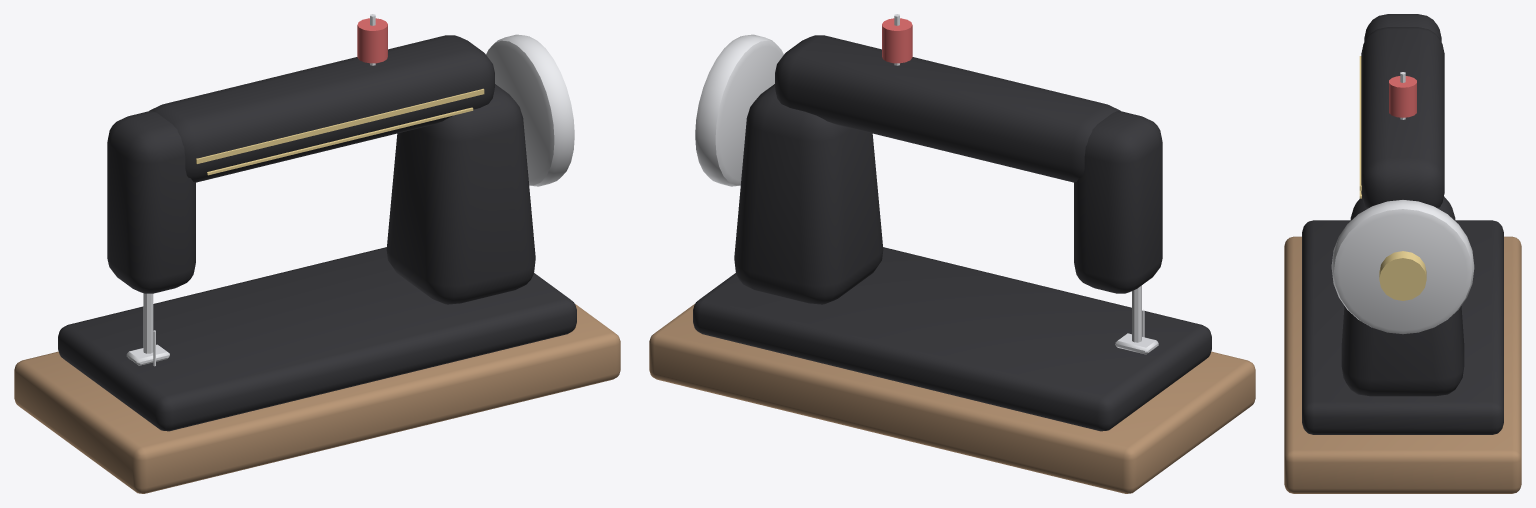
The model's file is sewing_machine.glb.
3 views of the same model, side by side, from view 1: azimuth 30°, elevation 25°; view 2: azimuth 150°, elevation 25°; view 3: azimuth 270°, elevation 25° (orthographic). The views are drawn at different scales.
Visible parts, largest first — view 1: sewing_machine; view 2: sewing_machine; view 3: sewing_machine.
Part boxes in pixels (left/top/right/bottom): sewing_machine: left=14, top=14, right=620, bottom=493; sewing_machine: left=649, top=14, right=1255, bottom=493; sewing_machine: left=1284, top=14, right=1521, bottom=493.
Size of the model in its own units: 0.44 by 0.315 by 0.2.
